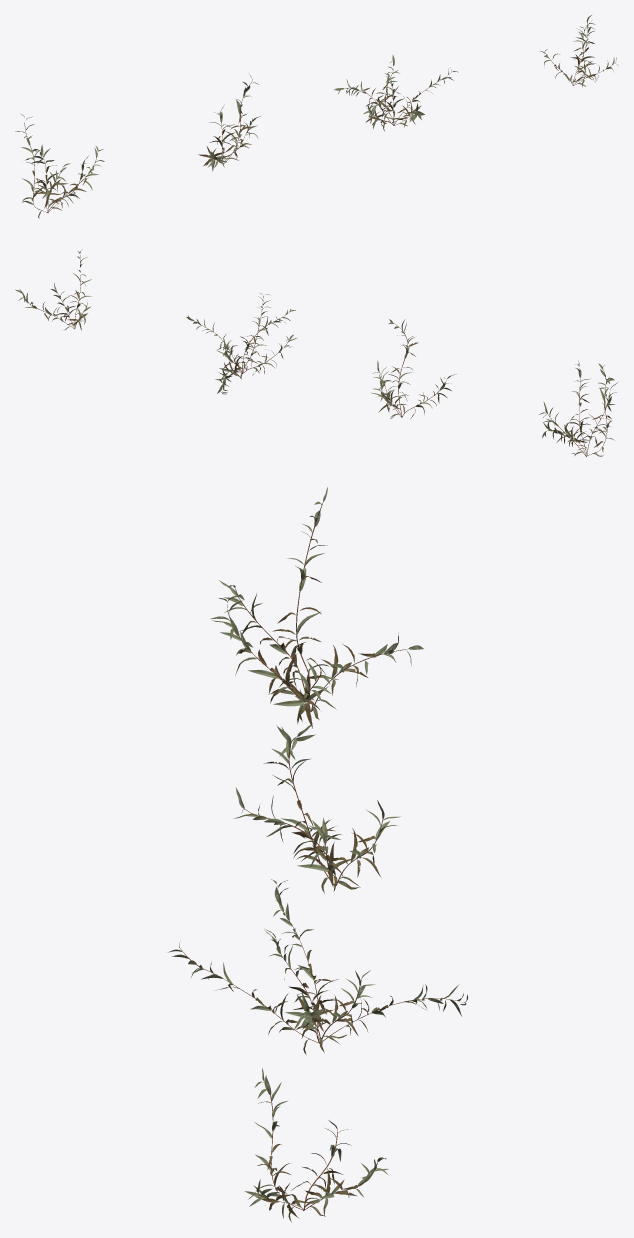
File: shrubs.glb
3 renders of one model, top to bottom at view 1: azimuth 30°, elevation 25°; view 2: azimuth 150°, elevation 25°; view 3: azimuth 270°, elevation 25°, orthographic. The views are drawn at different scales.
Parts seen in each view (by area): view 1: shrub_02_a, shrub_02_c, shrub_02_b, shrub_02_d; view 2: shrub_02_c, shrub_02_a, shrub_02_b, shrub_02_d; view 3: shrub_02_a, shrub_02_c, shrub_02_b, shrub_02_d.
Part boxes in pixels (box(x1,y1,x2,y2)): shrub_02_a: box(15, 114, 104, 218); shrub_02_c: box(334, 55, 458, 131); shrub_02_b: box(198, 74, 260, 171); shrub_02_d: box(540, 15, 618, 87); shrub_02_c: box(186, 293, 297, 394); shrub_02_a: box(539, 360, 617, 456); shrub_02_b: box(371, 319, 456, 418); shrub_02_d: box(15, 249, 91, 330); shrub_02_a: box(210, 487, 423, 728); shrub_02_c: box(168, 879, 468, 1054); shrub_02_b: box(233, 723, 400, 893); shrub_02_d: box(244, 1068, 388, 1222).
Bounding box in the file's own units: 10.19 × 1.69 × 2.29.
1 material, 1 textured.
